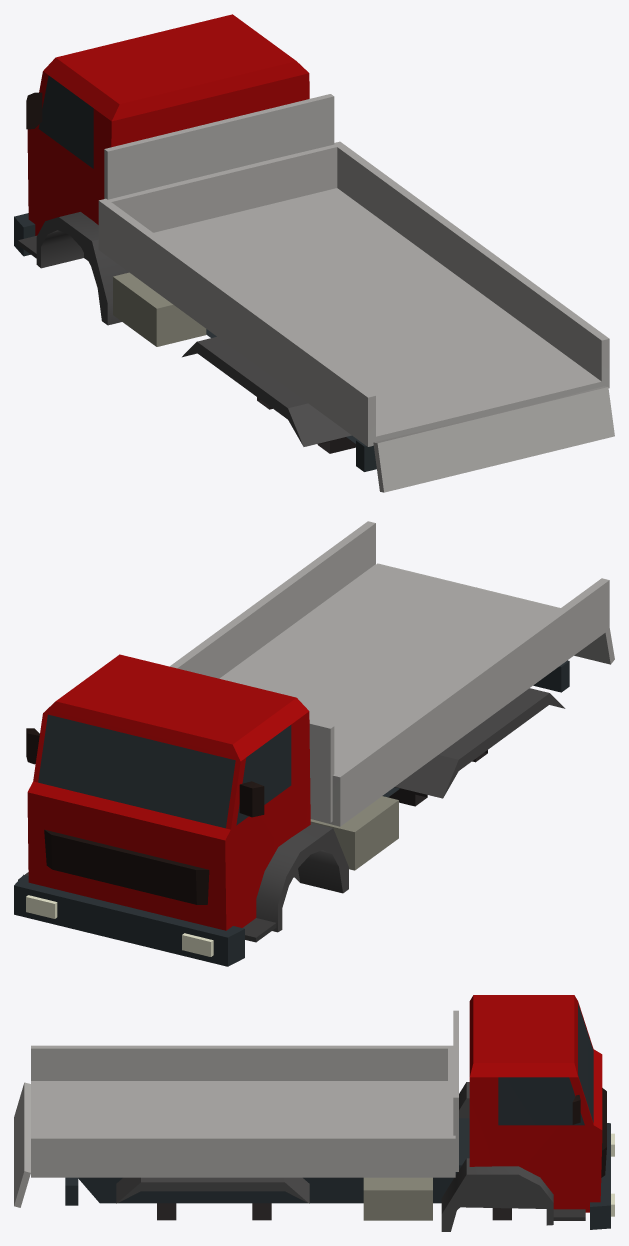
The model's file is work_truck1.fbx.
3 views of the same model, one above another, from view 1: azimuth 30°, elevation 25°; view 2: azimuth 150°, elevation 25°; view 3: azimuth 270°, elevation 25° (orthographic). The views are drawn at different scales.
Parts seen in each view (by area): view 1: work_truck1; view 2: work_truck1; view 3: work_truck1.
Part boxes in pixels (<box>): work_truck1: <box>14,14,614,492</box>; work_truck1: <box>14,521,614,966</box>; work_truck1: <box>14,995,614,1231</box>.
Size of the model in its own units: 307 by 229 by 773.
